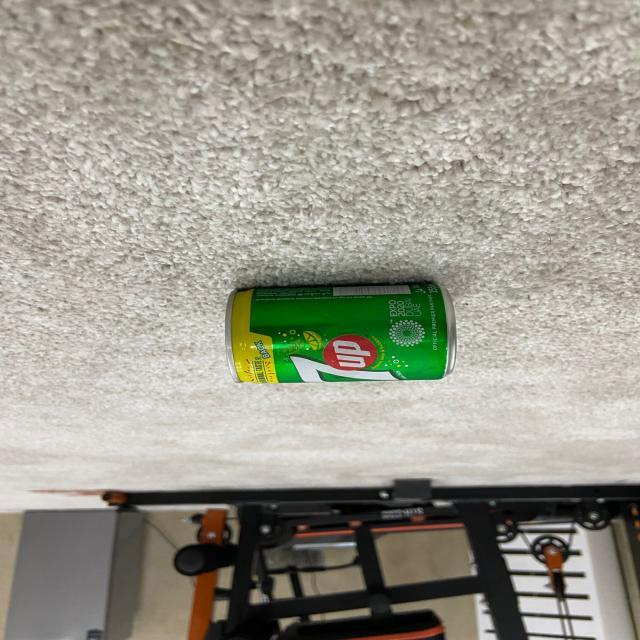can: (223, 280, 460, 387)
